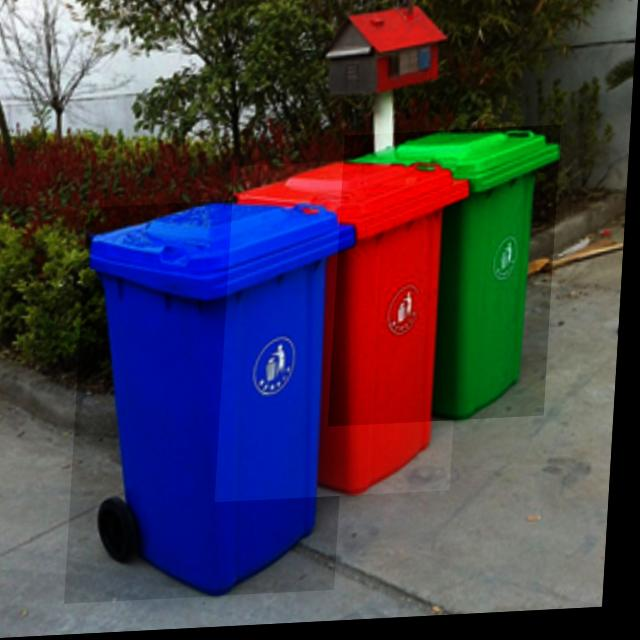garbage_bin: (72, 198, 361, 605), (221, 159, 472, 505), (333, 131, 563, 431)
